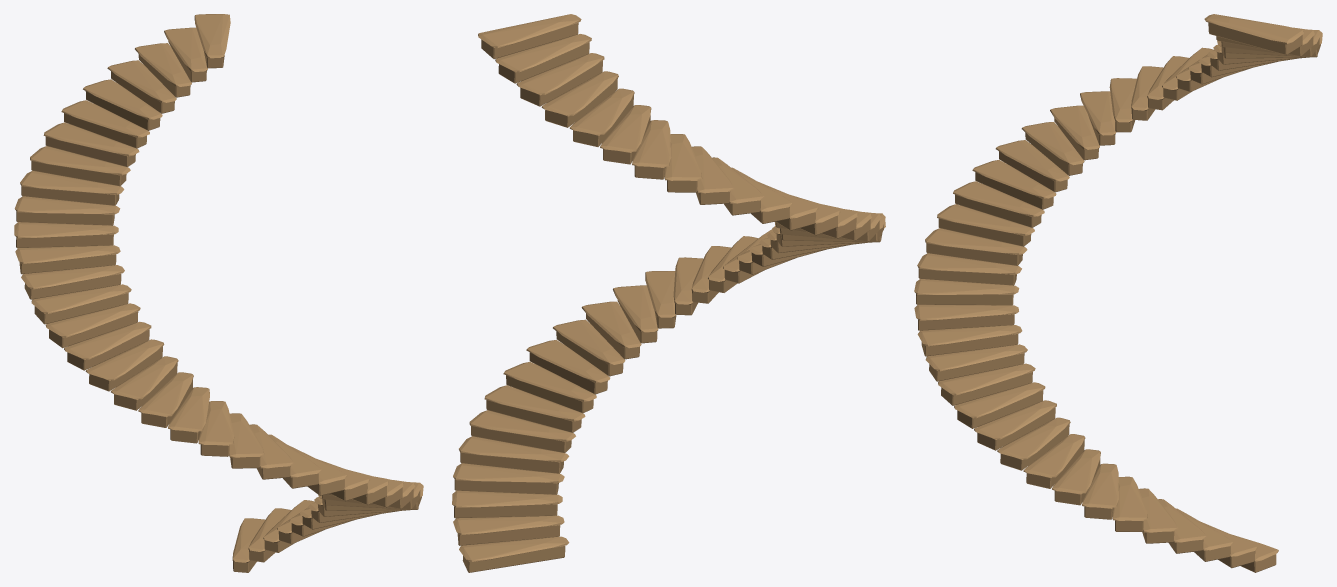
The model's file is Staircase_1.fbx.
The picture shows the model from 3 angles, left to right: view 1: azimuth 30°, elevation 25°; view 2: azimuth 150°, elevation 25°; view 3: azimuth 270°, elevation 25°; orthographic projection. The views are drawn at different scales.
Parts seen in each view (by area): view 1: Staircase.006; view 2: Staircase.006; view 3: Staircase.006.
Part boxes in pixels (bbox=[...]): Staircase.006: bbox=[14, 14, 423, 572]; Staircase.006: bbox=[452, 14, 885, 572]; Staircase.006: bbox=[914, 14, 1322, 572].
Size of the model in its own units: 1.99 by 2.78 by 1.99.
